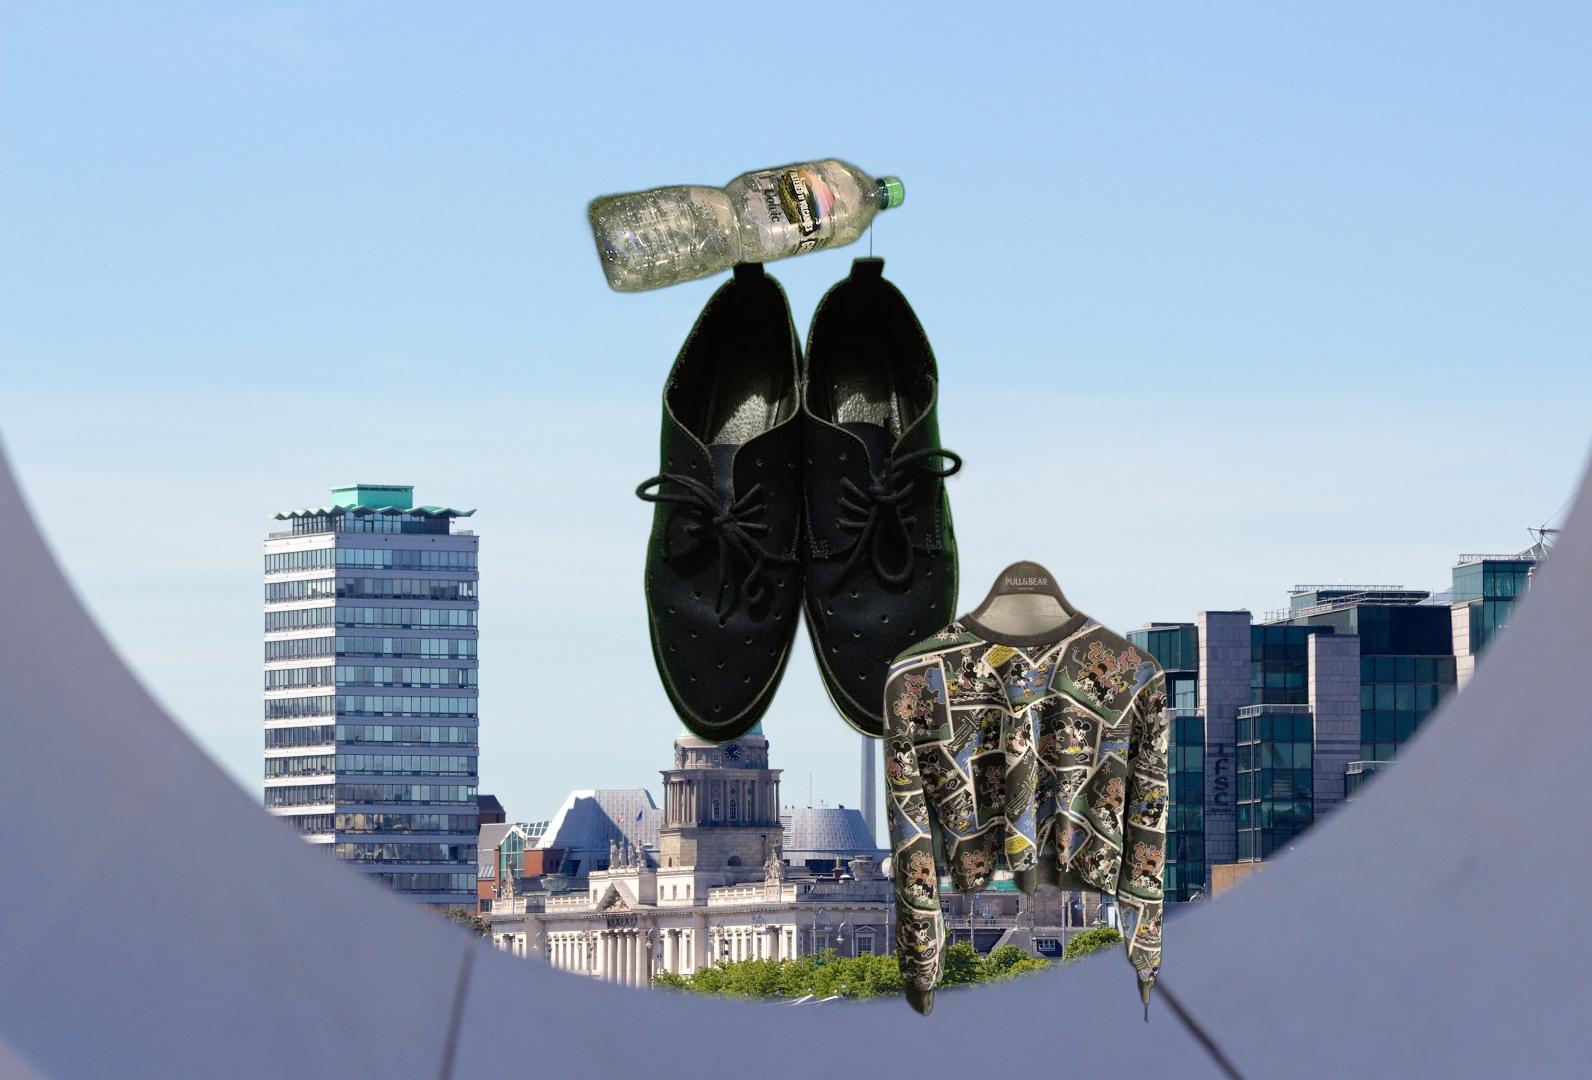clothes: (880, 540, 1177, 1026)
plastic-bottles: (500, 152, 907, 626)
shoes: (631, 247, 970, 749)
